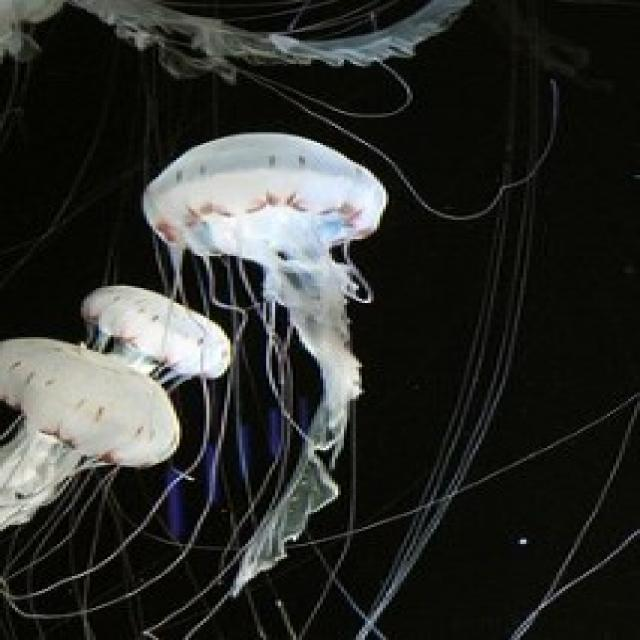Jellyfish: (161, 132, 412, 597), (0, 334, 179, 589), (76, 280, 237, 386)
